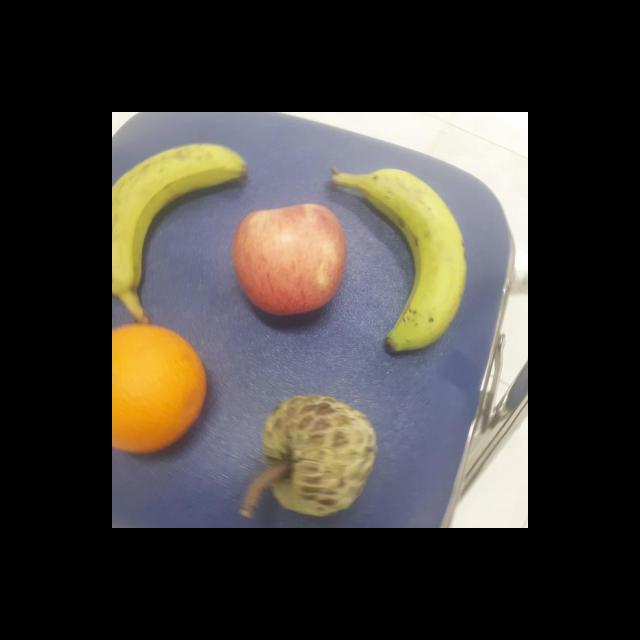Sakya fruit: (244, 390, 382, 522)
apple: (230, 196, 350, 322)
banana: (346, 159, 474, 355), (112, 140, 243, 312)
orange: (112, 321, 208, 456)
